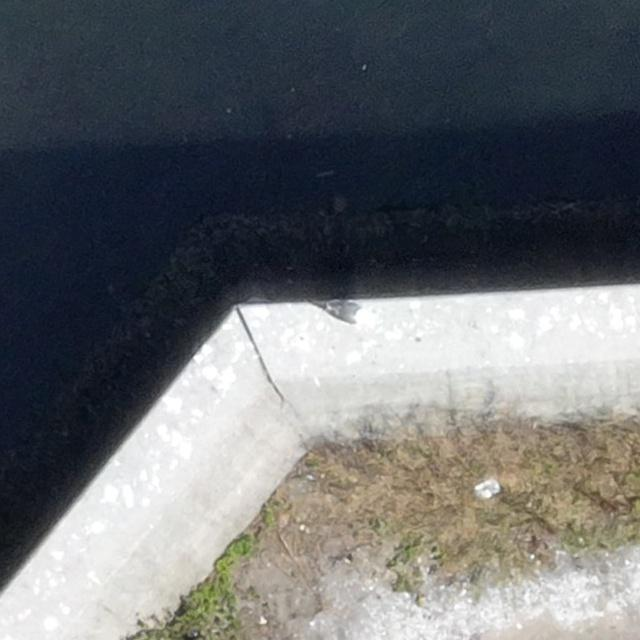umineko: (320, 298, 370, 326)
